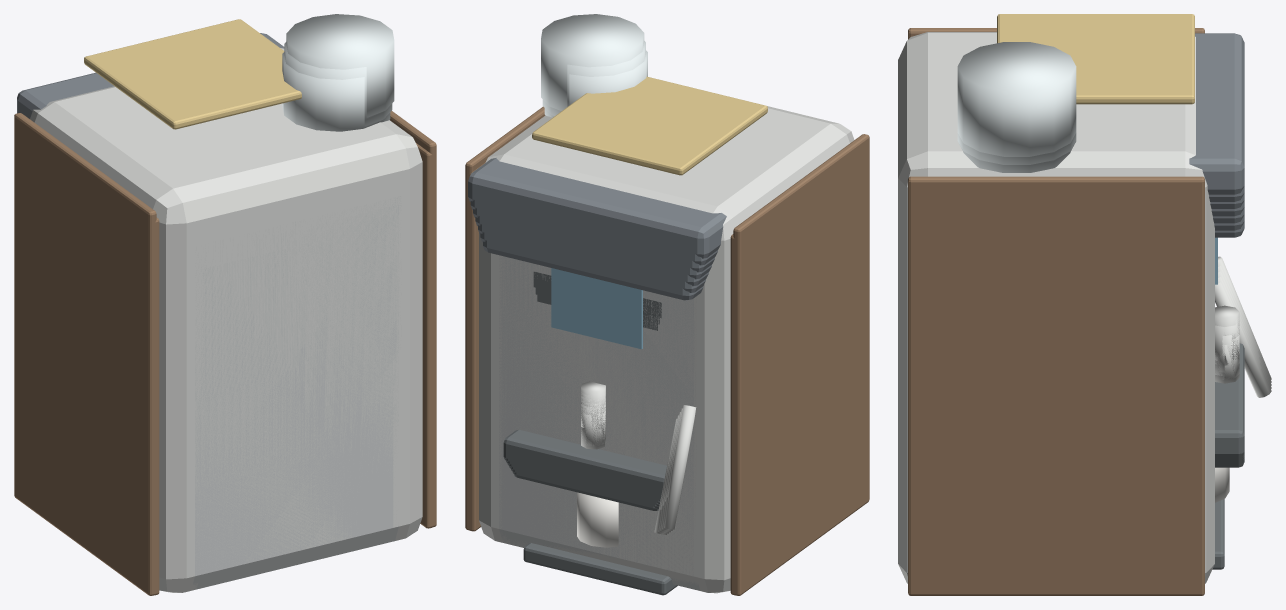
The model's file is Gear01.fbx.
3 views of the same model, side by side, from view 1: azimuth 30°, elevation 25°; view 2: azimuth 150°, elevation 25°; view 3: azimuth 270°, elevation 25° (orthographic). The views are drawn at different scales.
Parts seen in each view (by area): view 1: Gear01_V10_Chrome, Gear01_V10_Walnut, Gear01_V9_Chrome, Gear01_V4_BrushedSteel, Gear01_V5_BrushedSteel, Gear01_V10_Brass, Gear01_V7_BrushedSteel, Gear01_V10_Acrylic, Gear01_V9_Walnut, Gear01_V8_Acrylic, Gear01_V6_BrushedSteel, Gear01_V10_Graphite (+2 smaller); view 2: Gear01_V10_Chrome, Gear01_V10_Walnut, Gear01_V6_BrushedSteel, Gear01_V10_Brass, Gear01_V8_Chrome, Gear01_V5_BrushedSteel, Gear01_V10_Graphite, Gear01_V4_BrushedSteel, Gear01_V9_Chrome, Gear01_V10_Acrylic, Gear01_V9_Walnut, Gear01_V4_Graphite (+23 smaller); view 3: Gear01_V10_Walnut, Gear01_V10_Chrome, Gear01_V10_Brass, Gear01_V10_Acrylic, Gear01_V10_Graphite, Gear01_V10_Charcoal, Gear01_V6_Chrome, Gear01_V9_Acrylic, Gear01_V8_Acrylic, Gear01_V8_Chrome.
Part boxes in pixels (x1,y1,x2,y2): Gear01_V10_Chrome: (30, 48, 422, 592); Gear01_V10_Walnut: (14, 111, 436, 595); Gear01_V9_Chrome: (187, 178, 407, 584); Gear01_V4_BrushedSteel: (203, 225, 393, 571); Gear01_V5_BrushedSteel: (197, 214, 396, 589); Gear01_V10_Brass: (84, 19, 301, 129); Gear01_V7_BrushedSteel: (193, 196, 401, 584); Gear01_V10_Acrylic: (286, 14, 394, 117); Gear01_V9_Walnut: (154, 143, 432, 595); Gear01_V8_Acrylic: (282, 52, 390, 131); Gear01_V6_BrushedSteel: (195, 204, 398, 588); Gear01_V10_Graphite: (17, 33, 284, 118); Gear01_V10_Chrome: (479, 106, 854, 593); Gear01_V10_Walnut: (465, 106, 869, 595); Gear01_V6_BrushedSteel: (501, 256, 693, 576); Gear01_V10_Brass: (532, 76, 767, 175); Gear01_V8_Chrome: (496, 254, 701, 590); Gear01_V5_BrushedSteel: (504, 256, 691, 571); Gear01_V10_Graphite: (468, 158, 726, 258); Gear01_V4_BrushedSteel: (507, 257, 687, 550); Gear01_V9_Chrome: (493, 255, 705, 592); Gear01_V10_Acrylic: (541, 14, 644, 110); Gear01_V9_Walnut: (469, 163, 735, 595); Gear01_V4_Graphite: (483, 232, 703, 300); Gear01_V10_Walnut: (908, 28, 1204, 595); Gear01_V10_Chrome: (898, 32, 1271, 583); Gear01_V10_Brass: (997, 14, 1194, 104); Gear01_V10_Acrylic: (957, 42, 1076, 156); Gear01_V10_Graphite: (1189, 33, 1244, 194); Gear01_V10_Charcoal: (1215, 343, 1244, 456); Gear01_V6_Chrome: (1215, 282, 1271, 397); Gear01_V9_Acrylic: (957, 133, 1076, 164); Gear01_V8_Acrylic: (957, 141, 1076, 172); Gear01_V8_Chrome: (1215, 271, 1271, 385).
Size of the model in its own units: 36.52 by 57.58 by 37.75.
